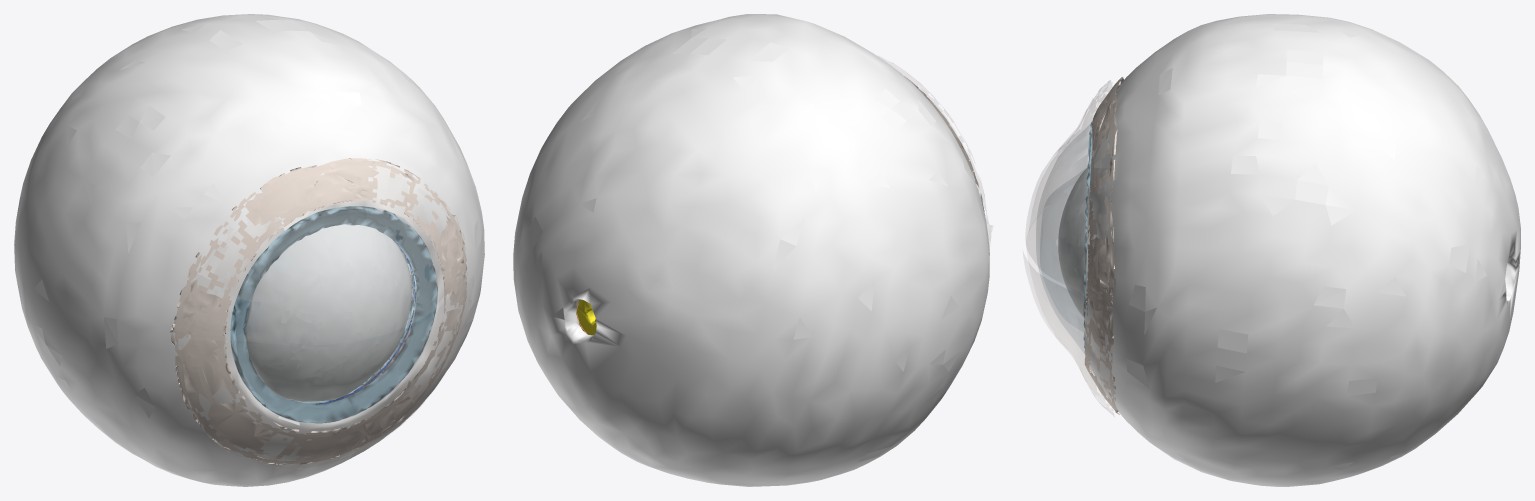
Rendered from 3d-vh-f-eye-r-40.glb.
3 renders of one model, left to right at view 1: azimuth 30°, elevation 25°; view 2: azimuth 150°, elevation 25°; view 3: azimuth 270°, elevation 25°, orthographic.
Visible parts, largest first — view 1: VH_F_sclera_R, VH_F_cornea_R, VH_F_palpebral_conjunctiva_of_right_upper_eyelid, VH_F_palpebral_conjunctiva_of_right_lower_eyelid, VH_F_bulbar_conjunctiva_R, VH_F_aqueous_humor_R, VH_F_corneo_scleral_junction_R, VH_F_trabecular_meshwork_R; view 2: VH_F_sclera_R, VH_F_palpebral_conjunctiva_of_right_upper_eyelid; view 3: VH_F_sclera_R, VH_F_palpebral_conjunctiva_of_right_upper_eyelid, VH_F_cornea_R, VH_F_bulbar_conjunctiva_R, VH_F_palpebral_conjunctiva_of_right_lower_eyelid, VH_F_aqueous_humor_R, VH_F_corneo_scleral_junction_R.
Boxes of the visible parts, x1,y1,x2,y2 form: VH_F_sclera_R: [14, 14, 484, 486]; VH_F_cornea_R: [232, 208, 437, 422]; VH_F_palpebral_conjunctiva_of_right_upper_eyelid: [177, 162, 467, 344]; VH_F_palpebral_conjunctiva_of_right_lower_eyelid: [175, 276, 473, 467]; VH_F_bulbar_conjunctiva_R: [170, 158, 466, 464]; VH_F_aqueous_humor_R: [245, 224, 411, 401]; VH_F_corneo_scleral_junction_R: [230, 206, 437, 423]; VH_F_trabecular_meshwork_R: [288, 241, 416, 403]; VH_F_sclera_R: [513, 14, 989, 486]; VH_F_palpebral_conjunctiva_of_right_upper_eyelid: [878, 56, 987, 221]; VH_F_sclera_R: [1084, 14, 1520, 486]; VH_F_palpebral_conjunctiva_of_right_upper_eyelid: [1026, 80, 1111, 307]; VH_F_cornea_R: [1036, 125, 1091, 353]; VH_F_bulbar_conjunctiva_R: [1084, 77, 1124, 414]; VH_F_palpebral_conjunctiva_of_right_lower_eyelid: [1023, 221, 1114, 416]; VH_F_aqueous_humor_R: [1058, 168, 1087, 317]; VH_F_corneo_scleral_junction_R: [1083, 121, 1092, 352].
Size of the model in its own units: 0.0245 by 0.0244 by 0.0257.
